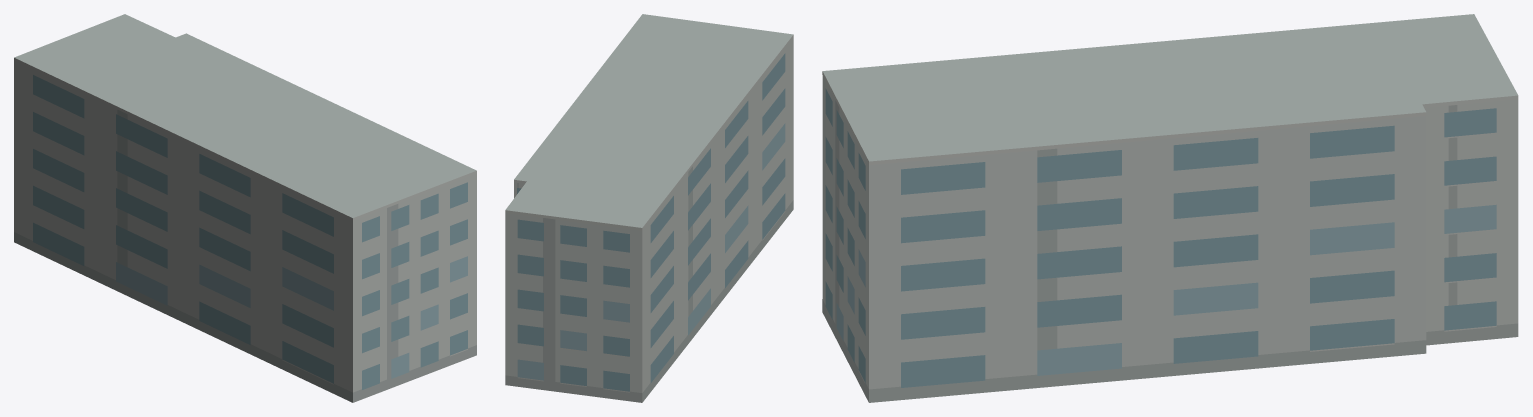
File: survey-upis-32498778.glb
3 renders of one model, left to right at view 1: azimuth 30°, elevation 25°; view 2: azimuth 150°, elevation 25°; view 3: azimuth 270°, elevation 25°, orthographic. The views are drawn at different scales.
Visible parts, largest first — view 1: survey-upis-32498778.tmp; view 2: survey-upis-32498778.tmp; view 3: survey-upis-32498778.tmp.
Boxes of the visible parts, x1,y1,x2,y2 form: survey-upis-32498778.tmp: (14, 14, 476, 402); survey-upis-32498778.tmp: (505, 14, 793, 402); survey-upis-32498778.tmp: (822, 14, 1518, 402).
Size of the model in its own units: 20.47 by 15.61 by 40.79.
